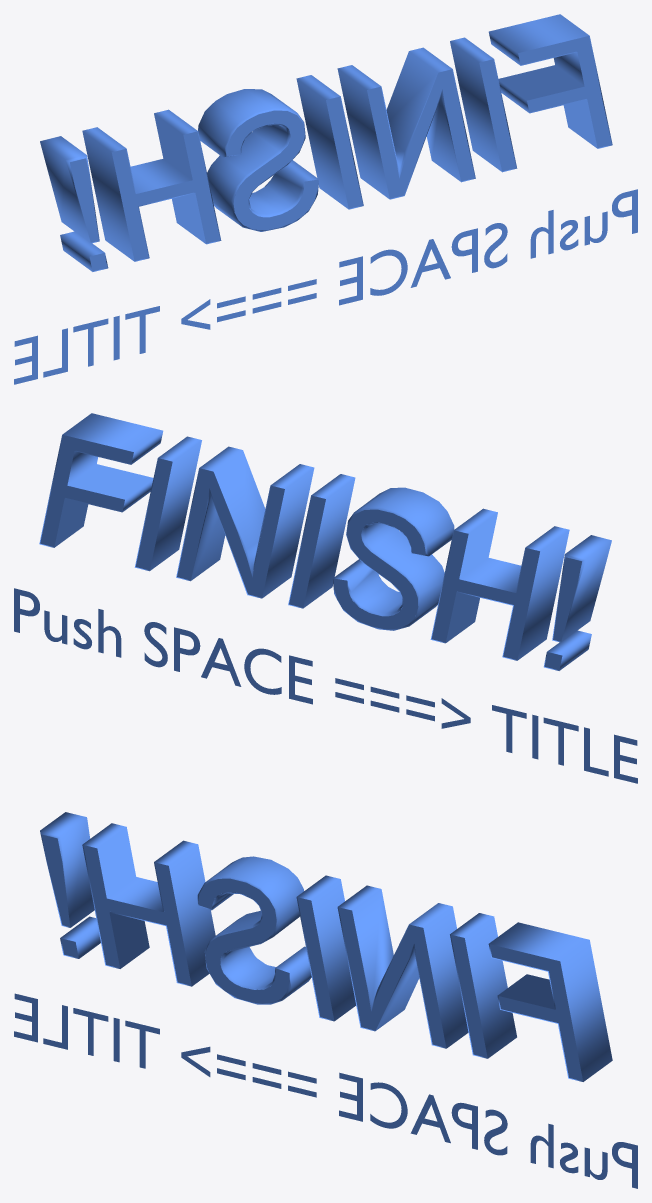
The model's file is Finish.obj.
The picture shows the model from 3 angles, top to bottom: view 1: azimuth 30°, elevation 25°; view 2: azimuth 150°, elevation 25°; view 3: azimuth 330°, elevation 25°; orthographic projection.
Parts seen in each view (by area): view 1: テキスト, テキスト.001; view 2: テキスト, テキスト.001; view 3: テキスト, テキスト.001.
Part boxes in pixels (x1=…): テキスト: x1=40, y1=14, x2=612, y2=271; テキスト.001: x1=14, y1=189, x2=637, y2=384; テキスト: x1=39, y1=413, x2=611, y2=670; テキスト.001: x1=14, y1=588, x2=637, y2=783; テキスト: x1=40, y1=812, x2=612, y2=1081; テキスト.001: x1=14, y1=993, x2=637, y2=1188.
Size of the model in its own units: 30.77 by 10.72 by 2.52.
2 materials, 2 textured.
